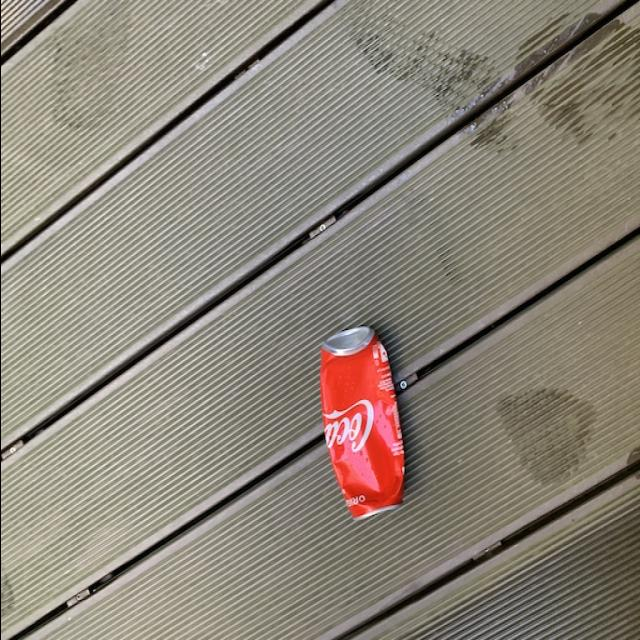Aluminum Can: (318, 324, 408, 525)
